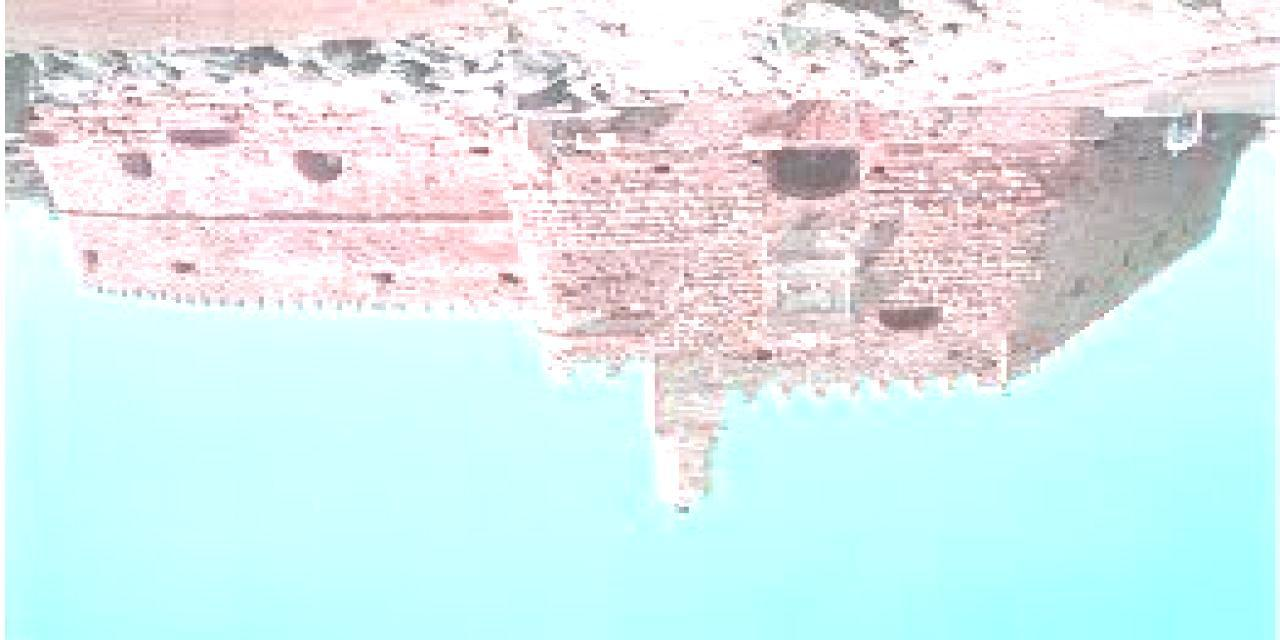Kules: (23, 98, 1264, 518)
